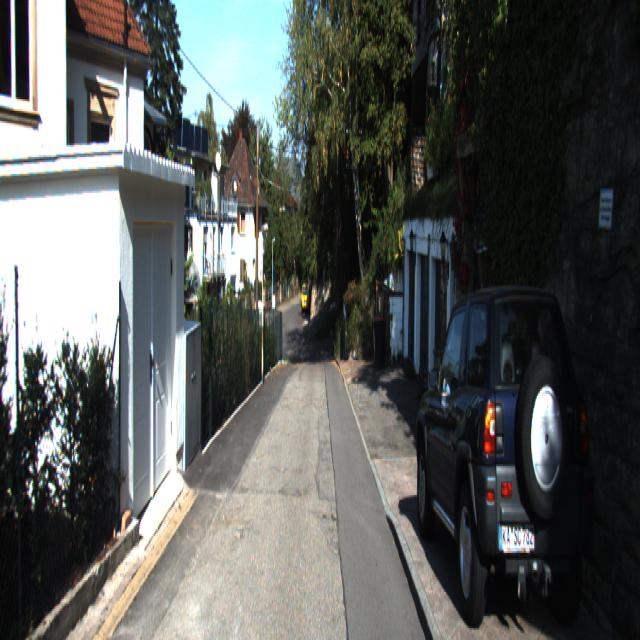Car: (414, 272, 602, 638)
DontCare: (298, 270, 311, 326)
